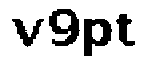9: (45, 6, 81, 48)
p: (82, 16, 111, 60)
t: (114, 10, 137, 49)
v: (9, 14, 45, 49)
